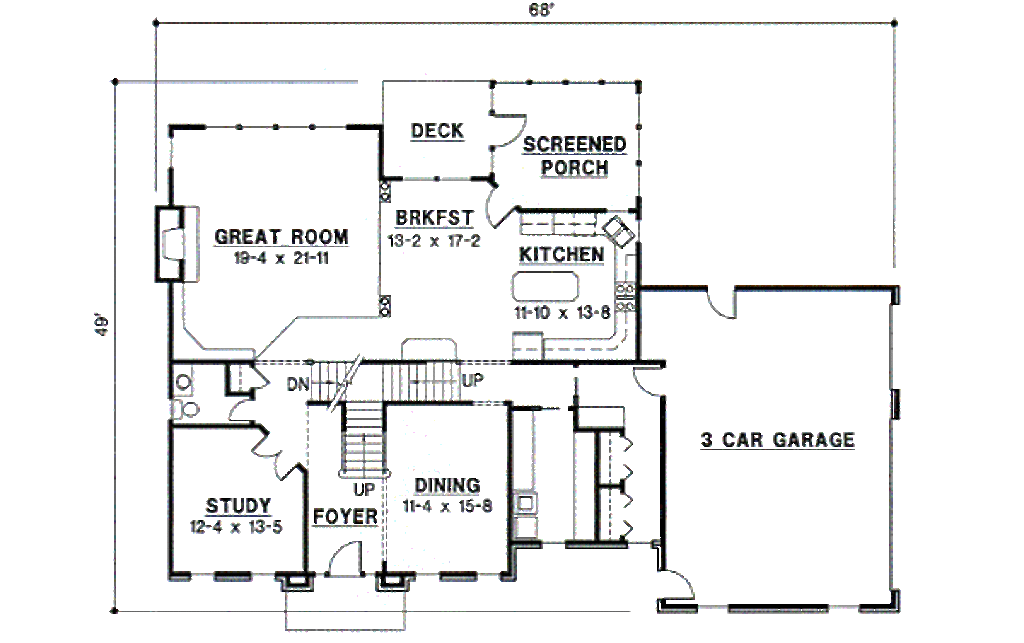door: (251, 434, 297, 483), (483, 185, 526, 230), (324, 538, 364, 578), (655, 564, 698, 601), (486, 110, 527, 147), (629, 366, 665, 404), (708, 283, 740, 319), (224, 396, 253, 425)
kitchen_bar: (508, 268, 582, 308)
large_sink: (167, 397, 201, 423)
small_sink: (168, 364, 197, 404)
stairs: (288, 360, 458, 497)
twin_sink: (599, 214, 633, 253)
